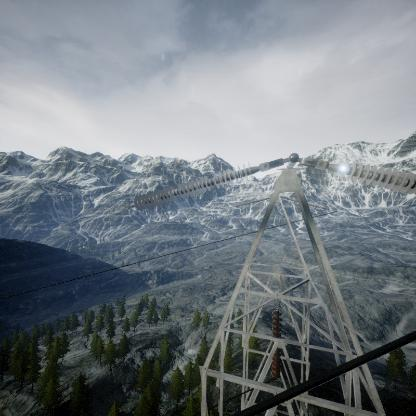insulator: (127, 162, 260, 210)
